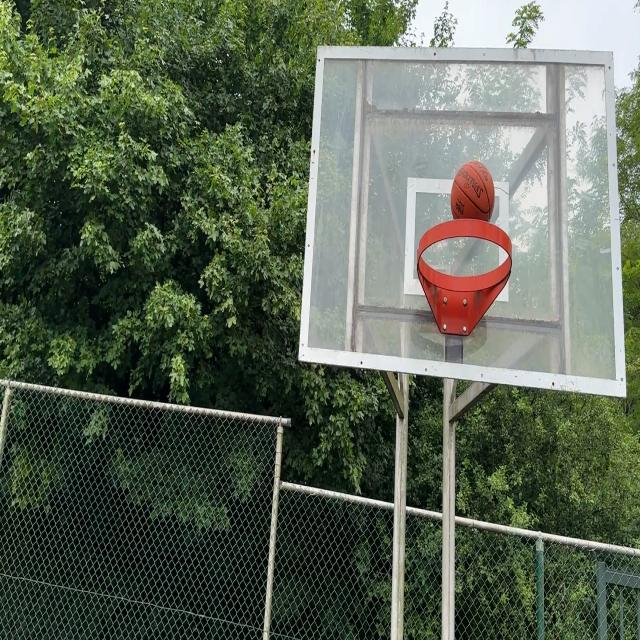rebound_hit: (452, 161, 495, 228)
